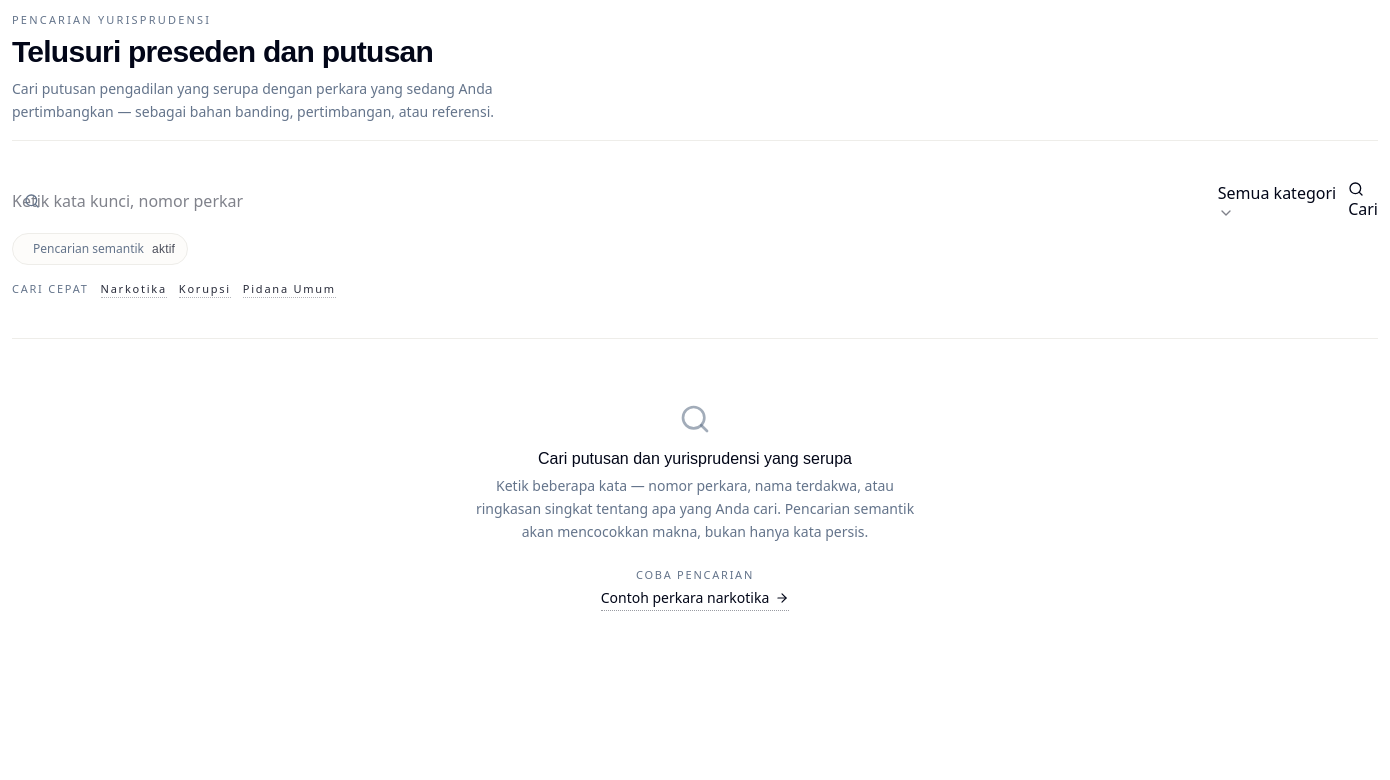
Test: CasesPage › shows the existing recovery message when search fails
Step 1. Type "korupsi" into the field with placeholder "Ketik kata kunci, nomor perkara, atau deskripsi singkat…" → x=128, y=200, box [12,188,243,212]
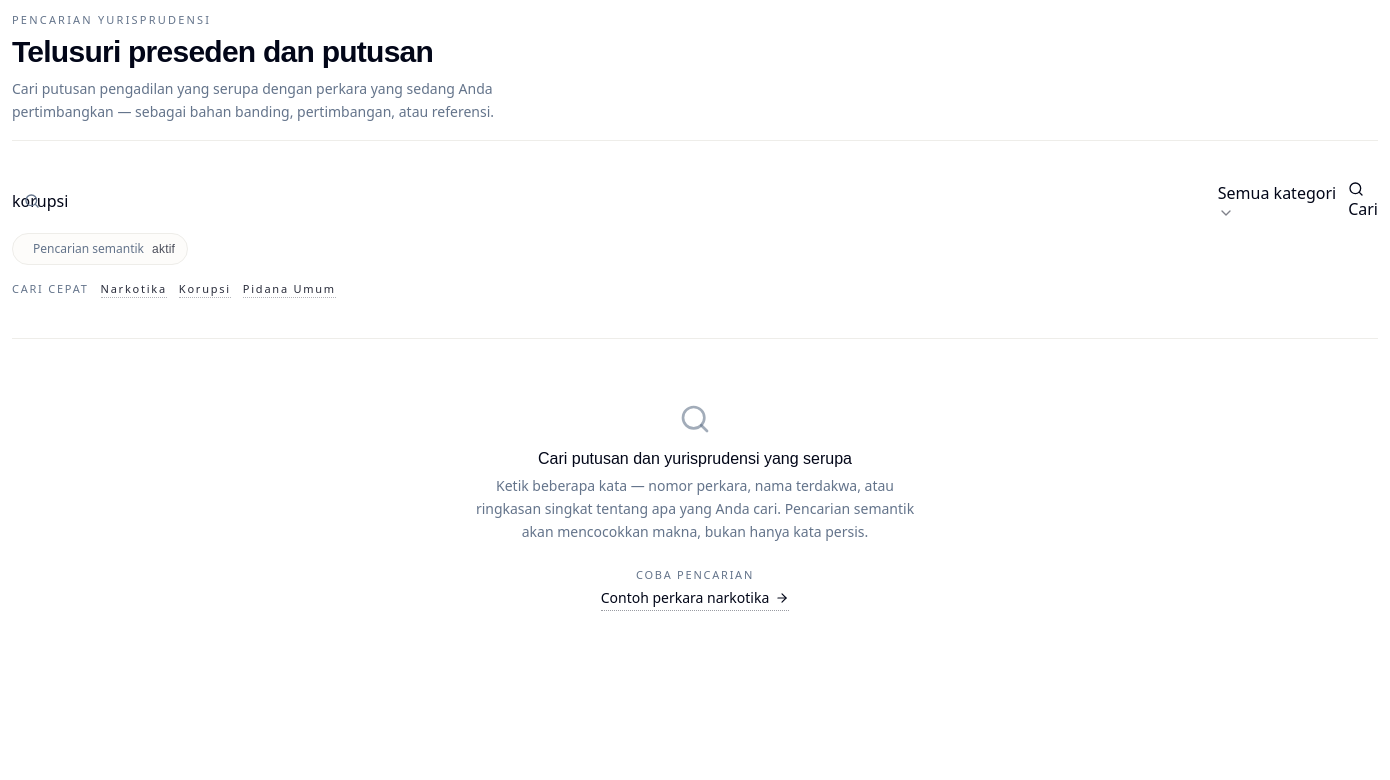
Step 2. Click the button "Cari" → x=1363, y=200, box [1348,180,1378,220]
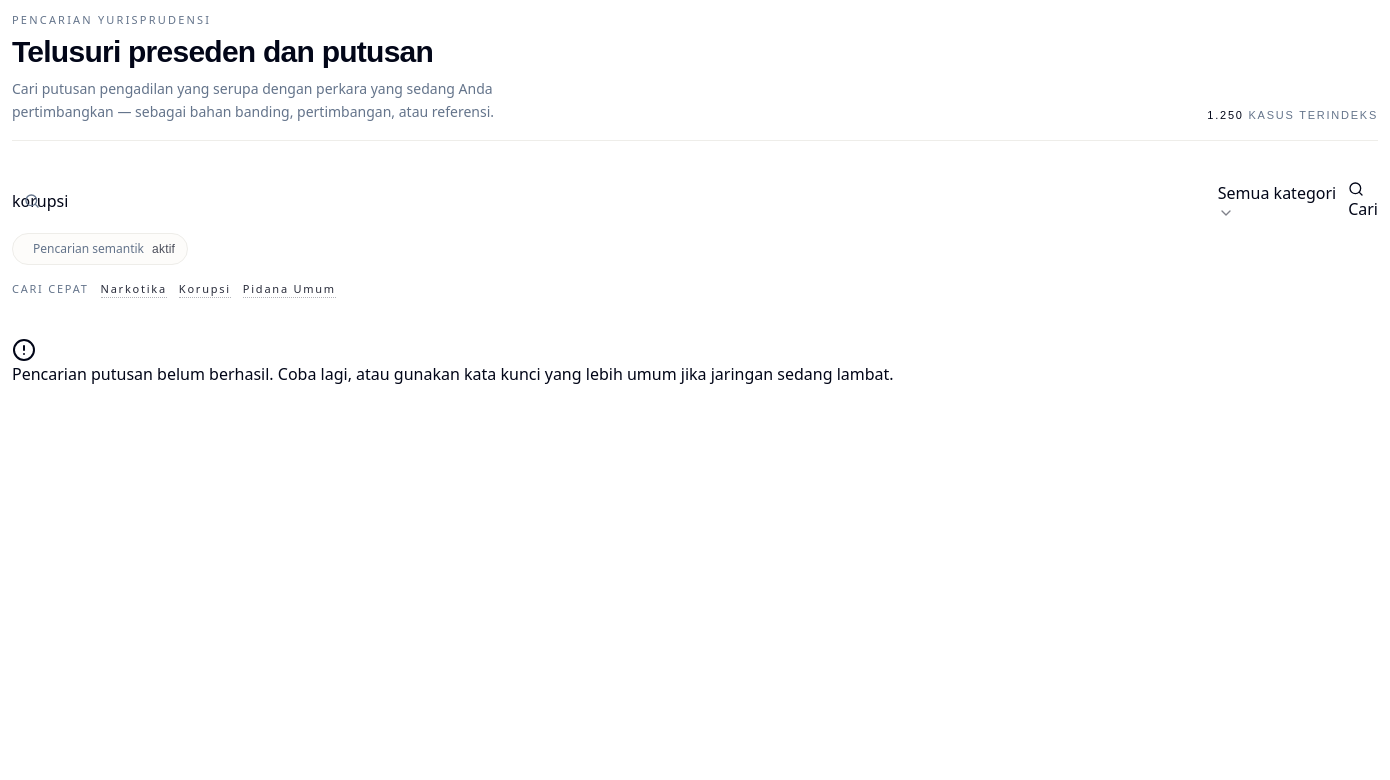
Check: the text "Pencarian putusan belum berhasil. Coba lagi, atau gunakan kata kunci yang lebih umum" is shown, box [12,363,894,385]
